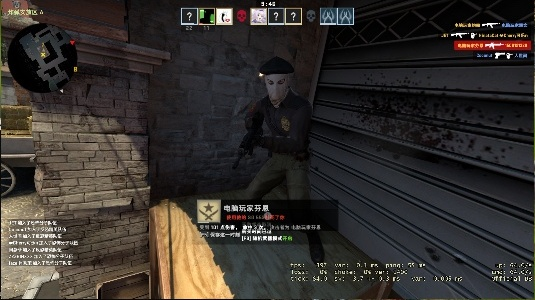body: (233, 56, 331, 267)
head: (261, 58, 291, 105)
